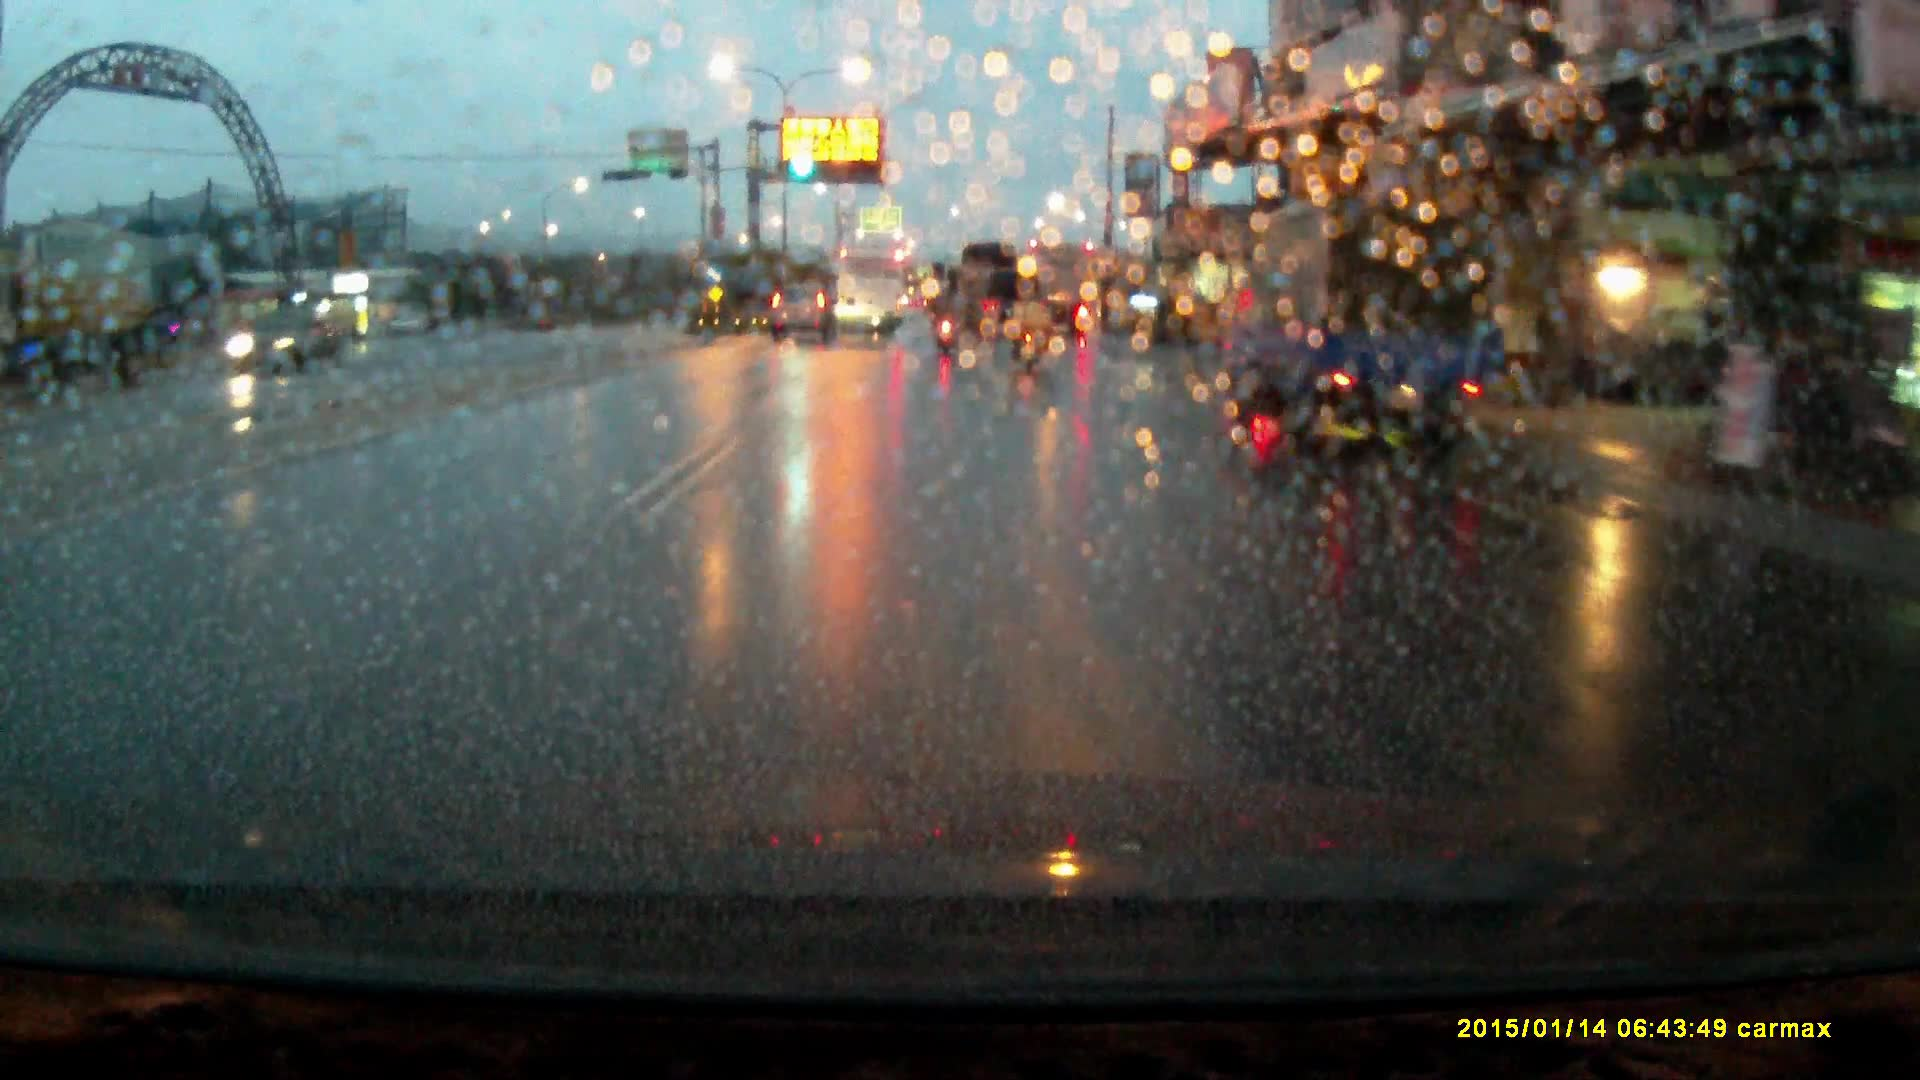rider: (1005, 279, 1052, 376), (931, 284, 960, 353)
vehicle: (1209, 190, 1504, 459), (1, 268, 163, 392), (226, 309, 340, 381), (959, 244, 1032, 334), (832, 246, 905, 335), (1028, 246, 1094, 330), (770, 283, 837, 340)
